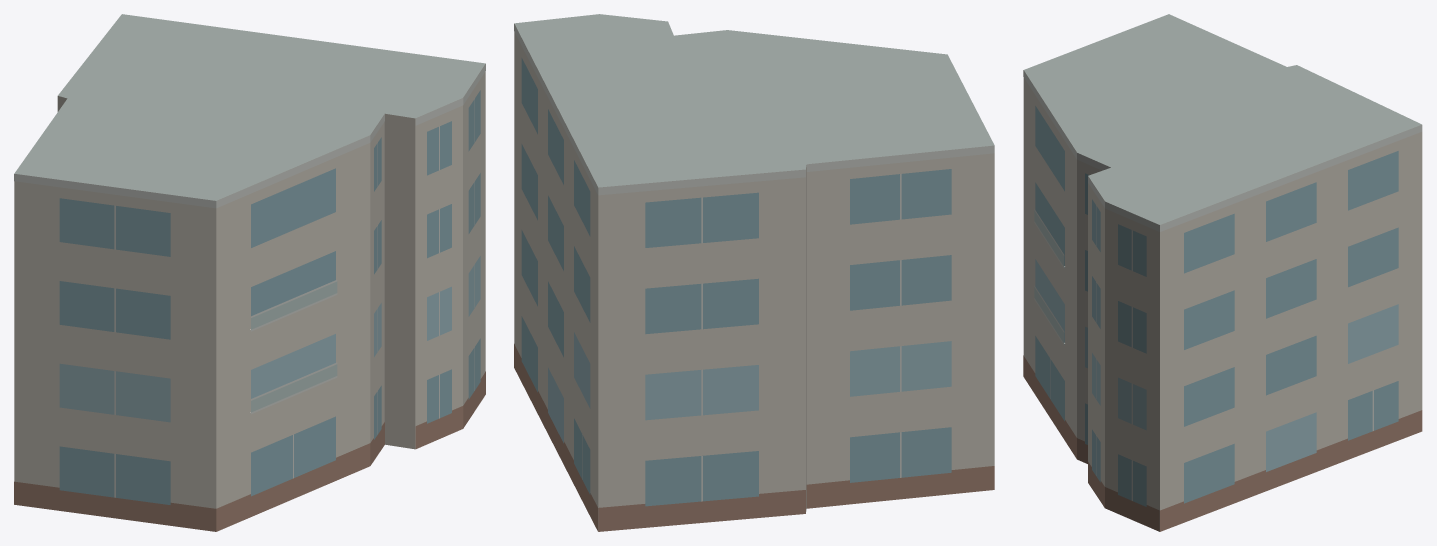
Rendered from survey-upis-32560834.glb.
The picture shows the model from 3 angles, left to right: view 1: azimuth 30°, elevation 25°; view 2: azimuth 150°, elevation 25°; view 3: azimuth 270°, elevation 25°; orthographic projection. The views are drawn at different scales.
Parts seen in each view (by area): view 1: survey-upis-32560834.tmp; view 2: survey-upis-32560834.tmp; view 3: survey-upis-32560834.tmp.
Boxes of the visible parts, left/top/right/bottom form: survey-upis-32560834.tmp: left=14, top=14, right=485, bottom=531; survey-upis-32560834.tmp: left=514, top=14, right=994, bottom=531; survey-upis-32560834.tmp: left=1023, top=14, right=1422, bottom=531.
Bounding box in the file's own units: 15.83 × 10.72 × 12.64.
